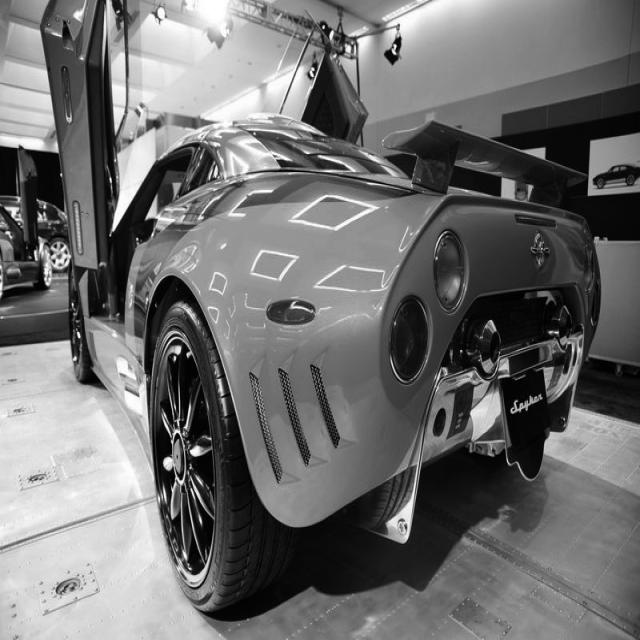car: (39, 0, 602, 615), (0, 194, 70, 272), (592, 162, 639, 189)
